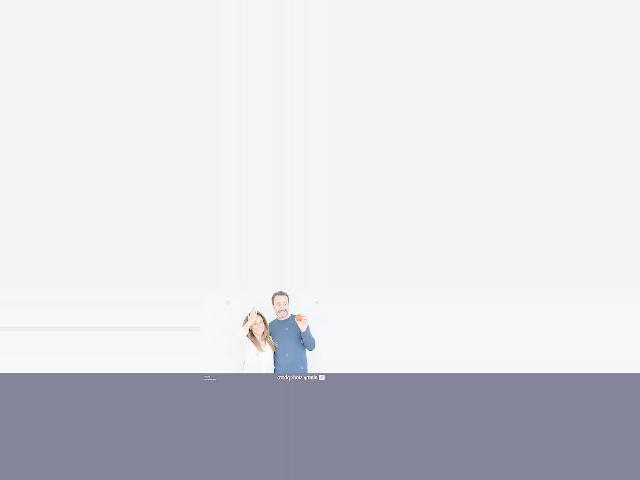tomato: (294, 313, 301, 320)
